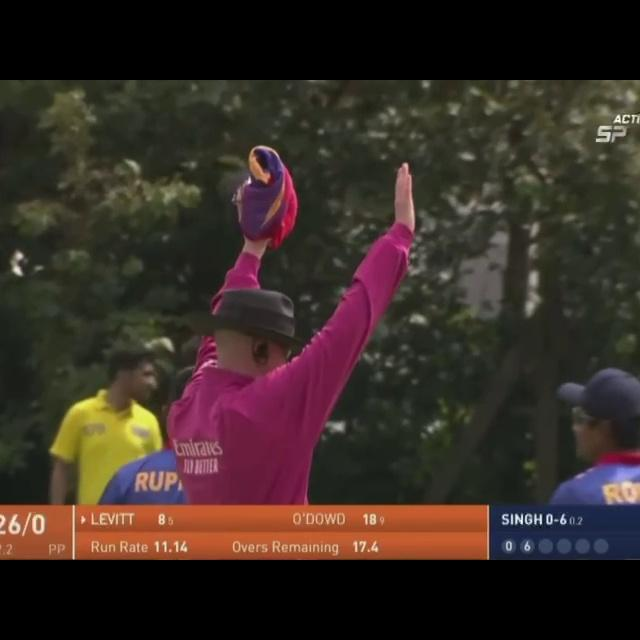umpire: (118, 90, 447, 522)
